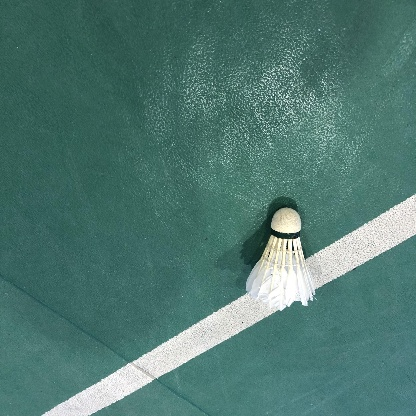ball_single: (246, 207, 316, 311)
